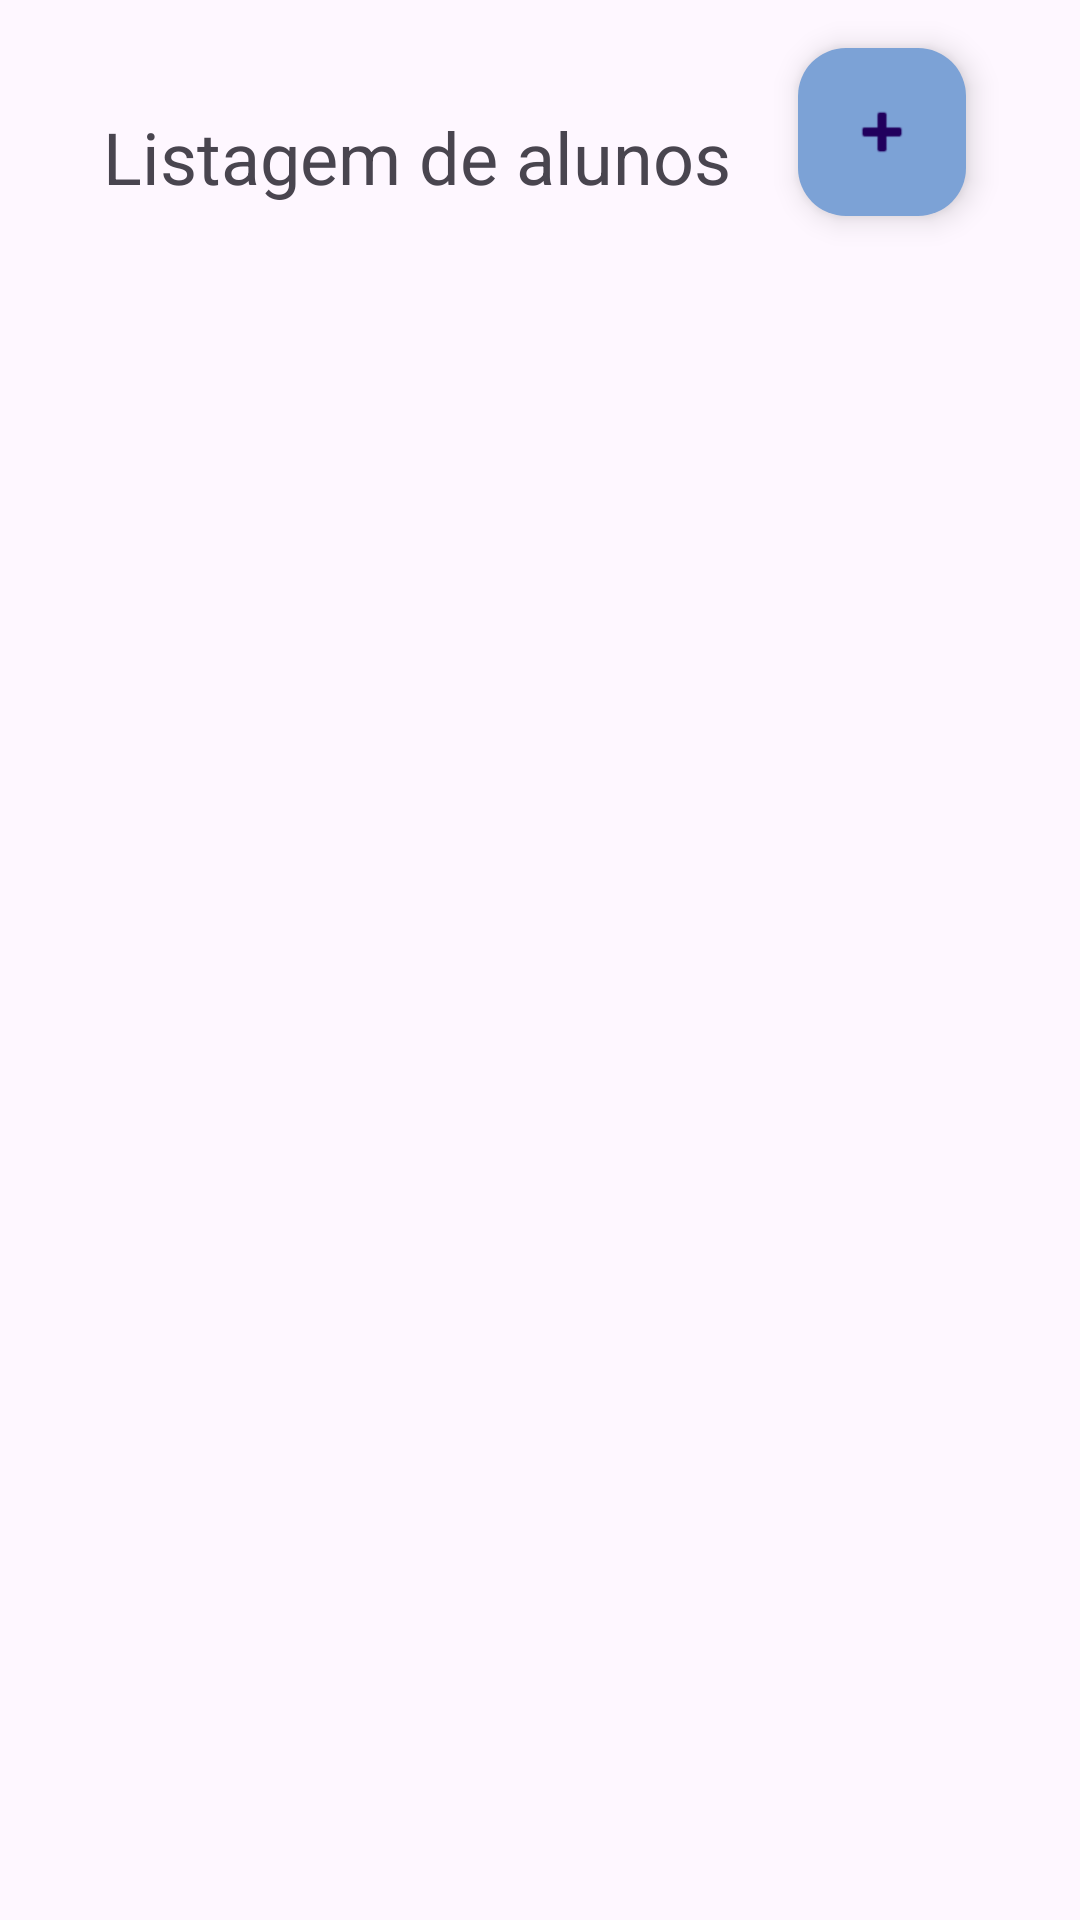

Icon bounding boxes for this 1080 x 1920 phone screenshot, format bbox=(x1, y1, x2, y2):
add: bbox=(798, 48, 966, 216)
